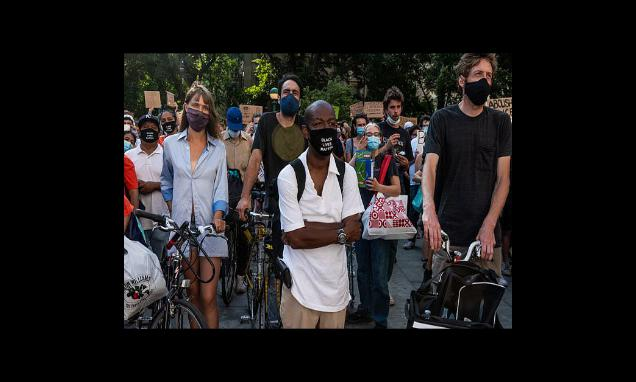mask_weared_incorrect: (389, 103, 402, 125)
with_mask: (311, 113, 336, 146), (471, 67, 493, 97), (188, 100, 211, 124), (282, 86, 300, 108), (141, 125, 159, 140), (226, 123, 243, 138), (160, 114, 174, 130), (367, 130, 380, 145), (125, 137, 135, 149), (357, 121, 366, 132), (340, 129, 348, 141), (254, 120, 259, 129)
